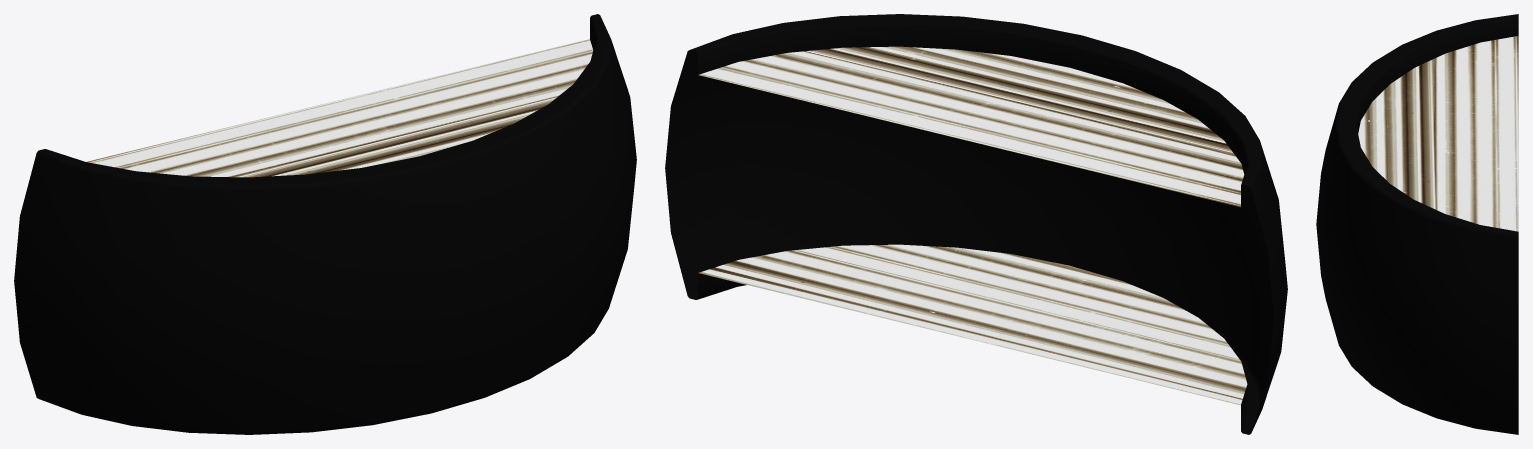
The model's file is SM_WallLight_007.FBX.
3 views of the same model, side by side, from view 1: azimuth 30°, elevation 25°; view 2: azimuth 150°, elevation 25°; view 3: azimuth 270°, elevation 25° (orthographic). The views are drawn at different scales.
Parts seen in each view (by area): view 1: SM_WallLight_007; view 2: SM_WallLight_007; view 3: SM_WallLight_007.
Boxes of the visible parts, x1,y1,x2,y2 form: SM_WallLight_007: (14, 14, 636, 434); SM_WallLight_007: (665, 14, 1287, 434); SM_WallLight_007: (1316, 14, 1518, 434).
Bounding box in the file's own units: 54.17 × 19.31 × 21.13.
